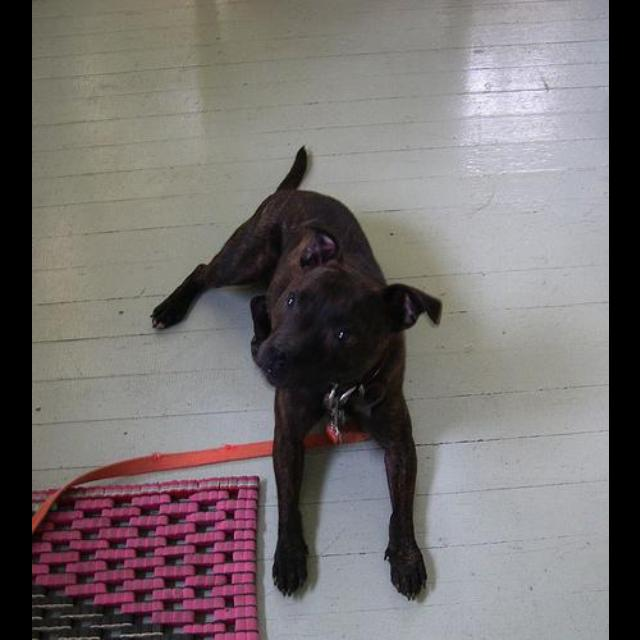staffford: (149, 144, 443, 602)
